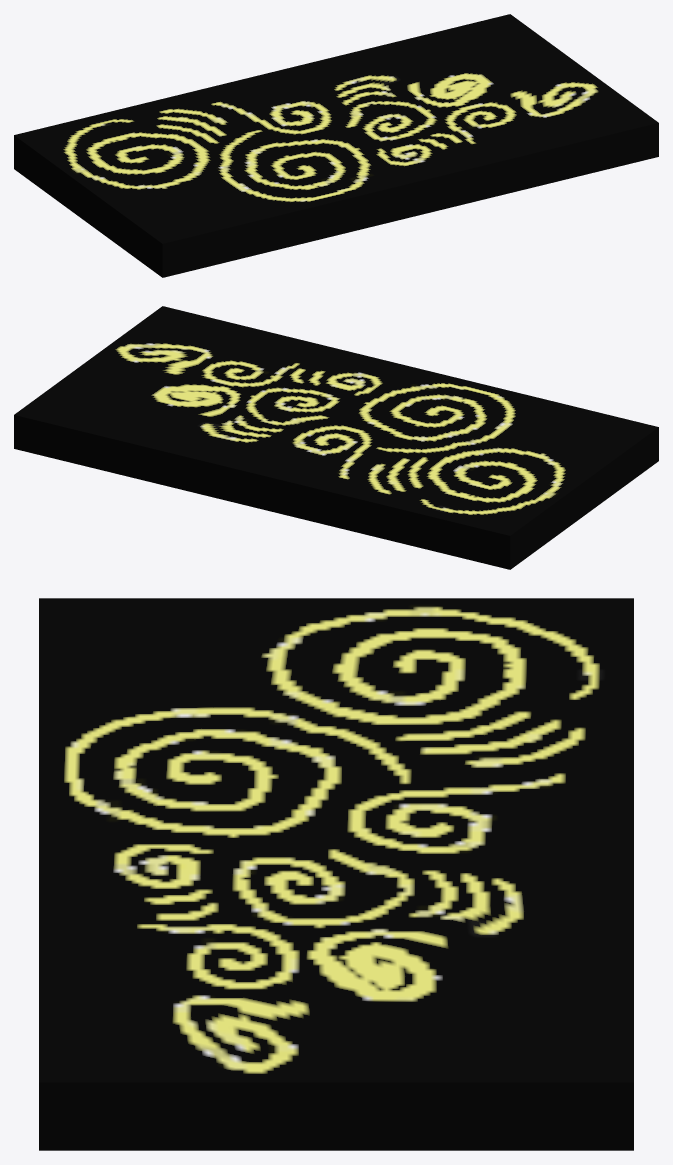
Rendered from CharSkyKid_Prop_MoonlightMural_Cloud02.glb.
3 renders of one model, top to bottom at view 1: azimuth 30°, elevation 25°; view 2: azimuth 150°, elevation 25°; view 3: azimuth 270°, elevation 25°, orthographic. The views are drawn at different scales.
Parts seen in each view (by area): view 1: CharSkyKid_Prop_MoonlightMural_Cloud02; view 2: CharSkyKid_Prop_MoonlightMural_Cloud02; view 3: CharSkyKid_Prop_MoonlightMural_Cloud02.
Part boxes in pixels (bbox=[...]): CharSkyKid_Prop_MoonlightMural_Cloud02: bbox=[14, 14, 658, 277]; CharSkyKid_Prop_MoonlightMural_Cloud02: bbox=[14, 306, 658, 569]; CharSkyKid_Prop_MoonlightMural_Cloud02: bbox=[39, 598, 633, 1150].
Size of the model in its own units: 1 by 0.0654 by 0.5189.
1 material, 1 textured.
